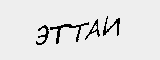Е: (122, 19, 139, 44)
И: (82, 21, 103, 32)
Т: (37, 18, 53, 38)
Ч: (105, 19, 121, 36)
Ю: (54, 21, 80, 35)
Ғ: (19, 19, 38, 39)
